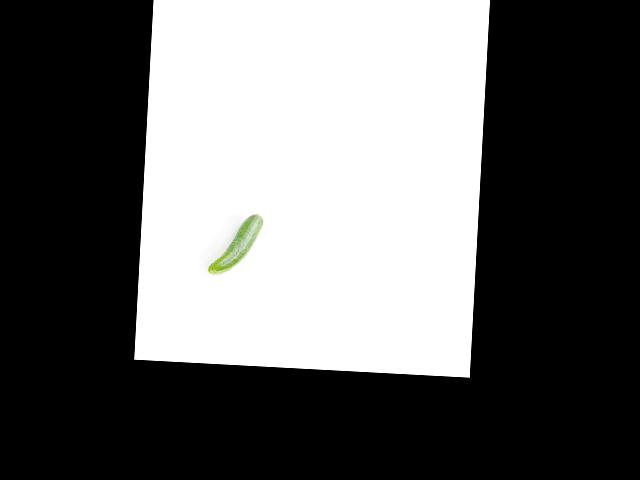cucumber: (207, 211, 263, 276)
